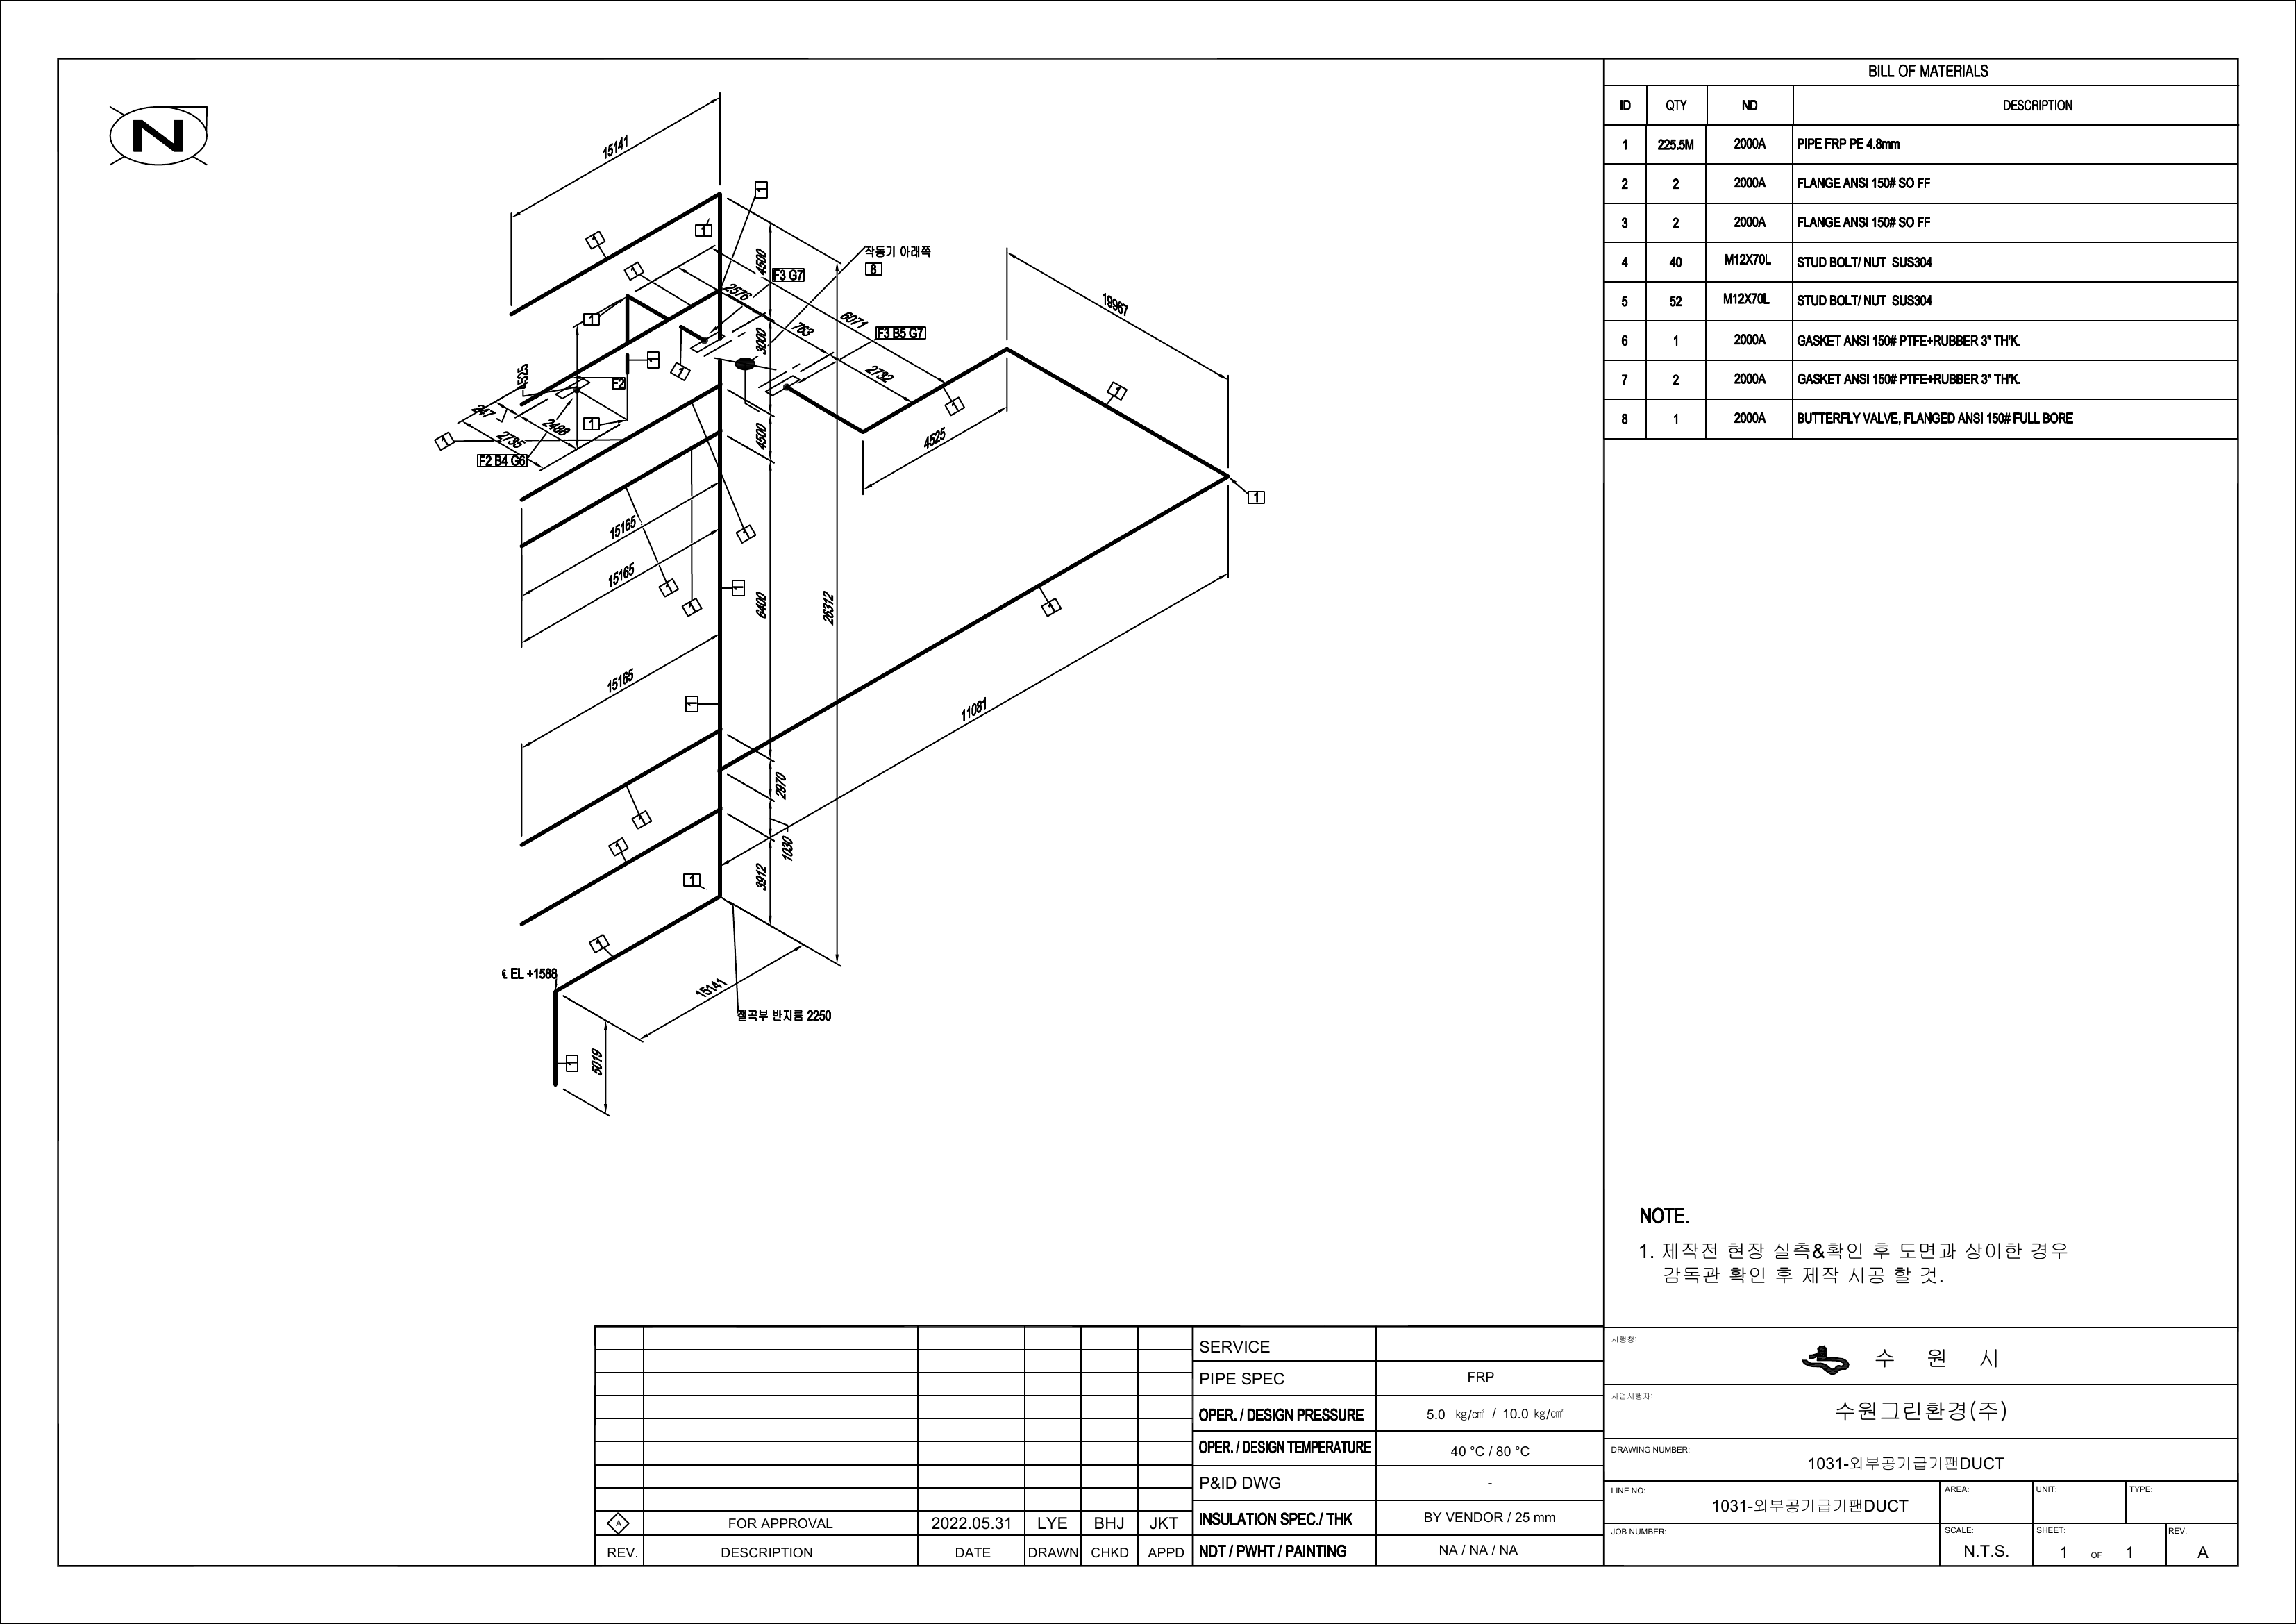table: (1599, 44, 2252, 453)
